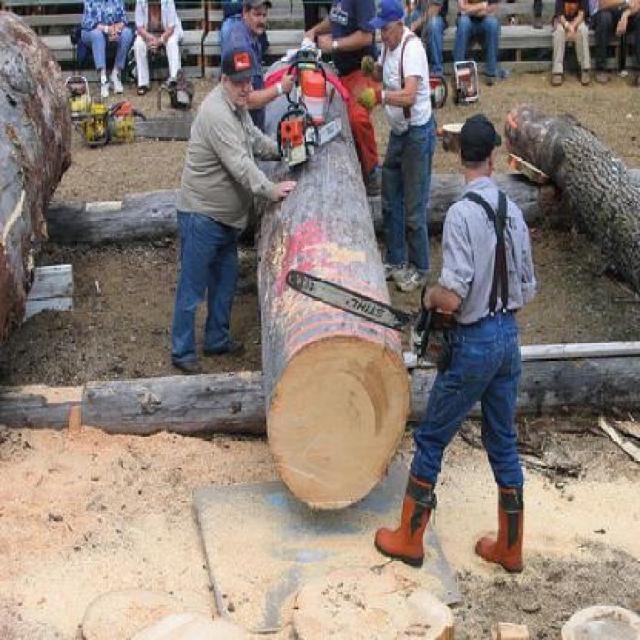Chainsaw: (285, 268, 449, 374), (264, 99, 348, 168), (76, 102, 192, 149)
